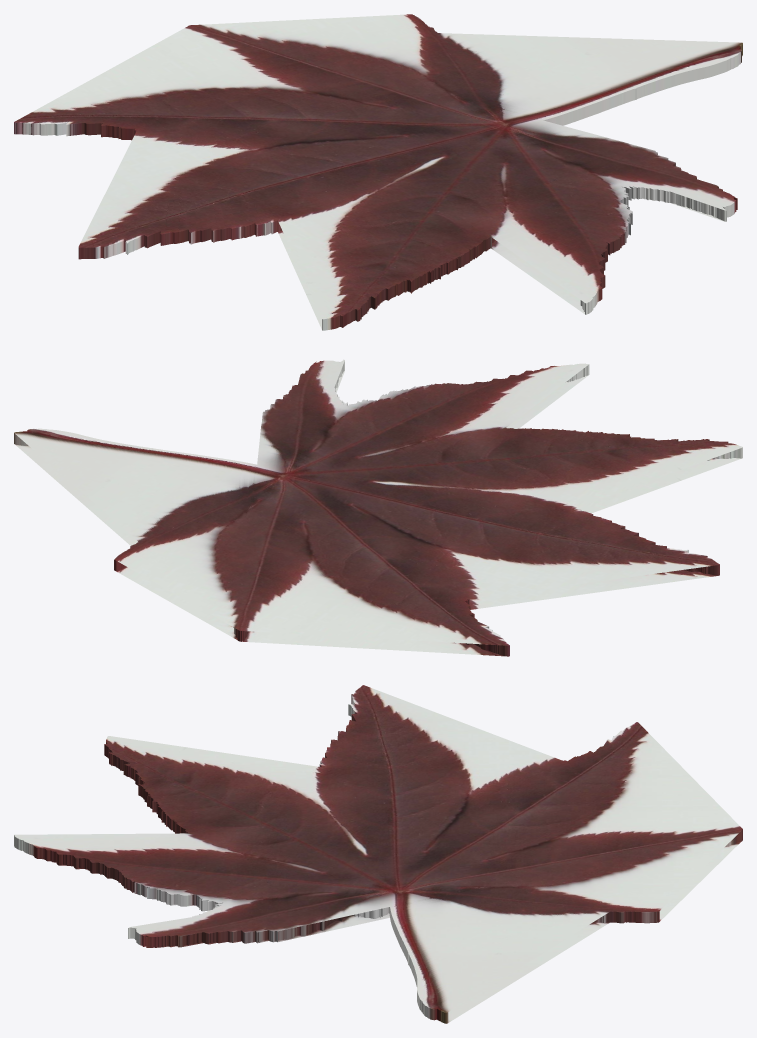
Rendered from textured_japanese_maple_asset.obj.
The picture shows the model from 3 angles, top to bottom: view 1: azimuth 30°, elevation 25°; view 2: azimuth 150°, elevation 25°; view 3: azimuth 270°, elevation 25°; orthographic projection. The views are drawn at different scales.
Parts seen in each view (by area): view 1: Mesh; view 2: Mesh; view 3: Mesh.
Boxes of the visible parts, x1,y1,x2,y2 form: Mesh: [14, 14, 742, 330]; Mesh: [14, 359, 742, 656]; Mesh: [14, 685, 742, 1023].
Size of the model in its own units: 13.06 by 0.2026 by 12.28.
Materials: 1 (1 with a texture image).
